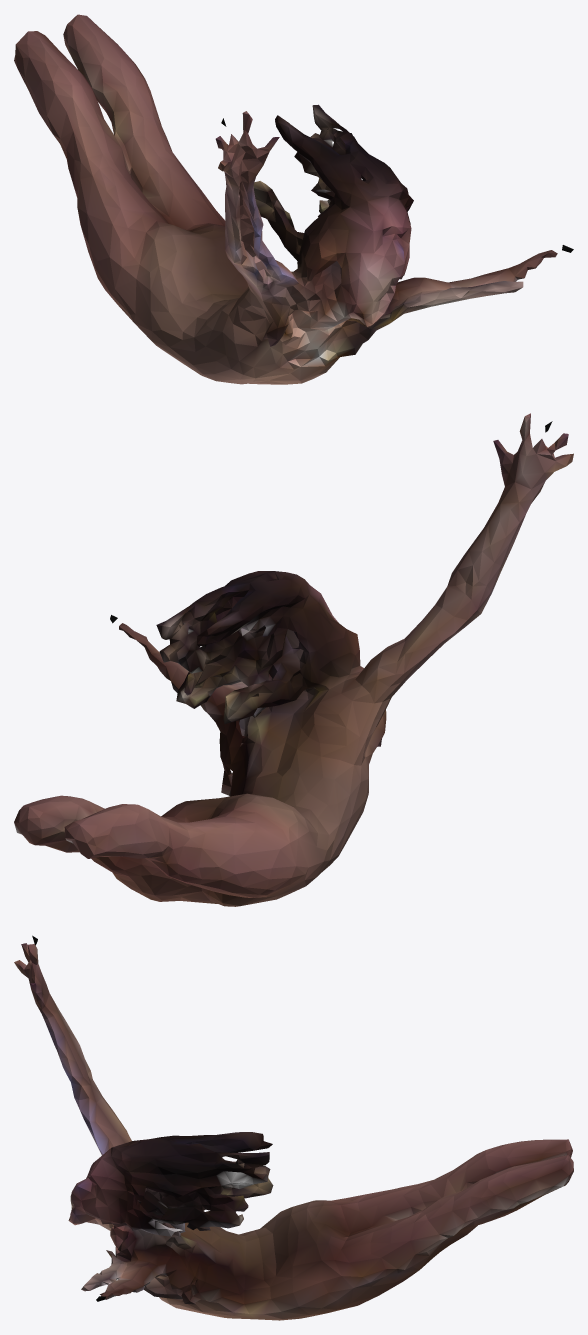
The model's file is albena.obj.
The picture shows the model from 3 angles, top to bottom: view 1: azimuth 30°, elevation 25°; view 2: azimuth 150°, elevation 25°; view 3: azimuth 270°, elevation 25°; orthographic projection. The views are drawn at different scales.
Bounding box in the file's own units: 0.9486 × 0.8837 × 1.4.
